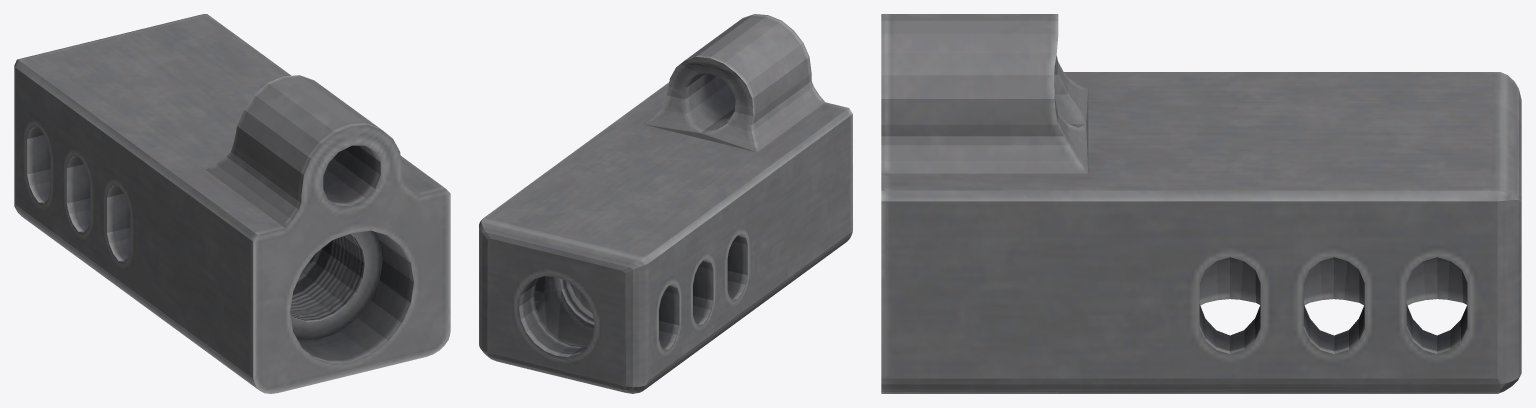
3 views of the same model, side by side, from view 1: azimuth 30°, elevation 25°; view 2: azimuth 150°, elevation 25°; view 3: azimuth 270°, elevation 25° (orthographic). The views are drawn at different scales.
Visible parts, largest first — view 1: TW_5a7ad0c451dfba0013379712_PZ_Import; view 2: TW_5a7ad0c451dfba0013379712_PZ_Import; view 3: TW_5a7ad0c451dfba0013379712_PZ_Import.
Part boxes in pixels (box(x1,y1,x2,y2)): TW_5a7ad0c451dfba0013379712_PZ_Import: box(14, 14, 450, 393); TW_5a7ad0c451dfba0013379712_PZ_Import: box(479, 14, 852, 393); TW_5a7ad0c451dfba0013379712_PZ_Import: box(881, 14, 1521, 393).
Size of the model in its own units: 0.0144 by 0.0313 by 0.0174.
Materials: 1 (1 with a texture image).
